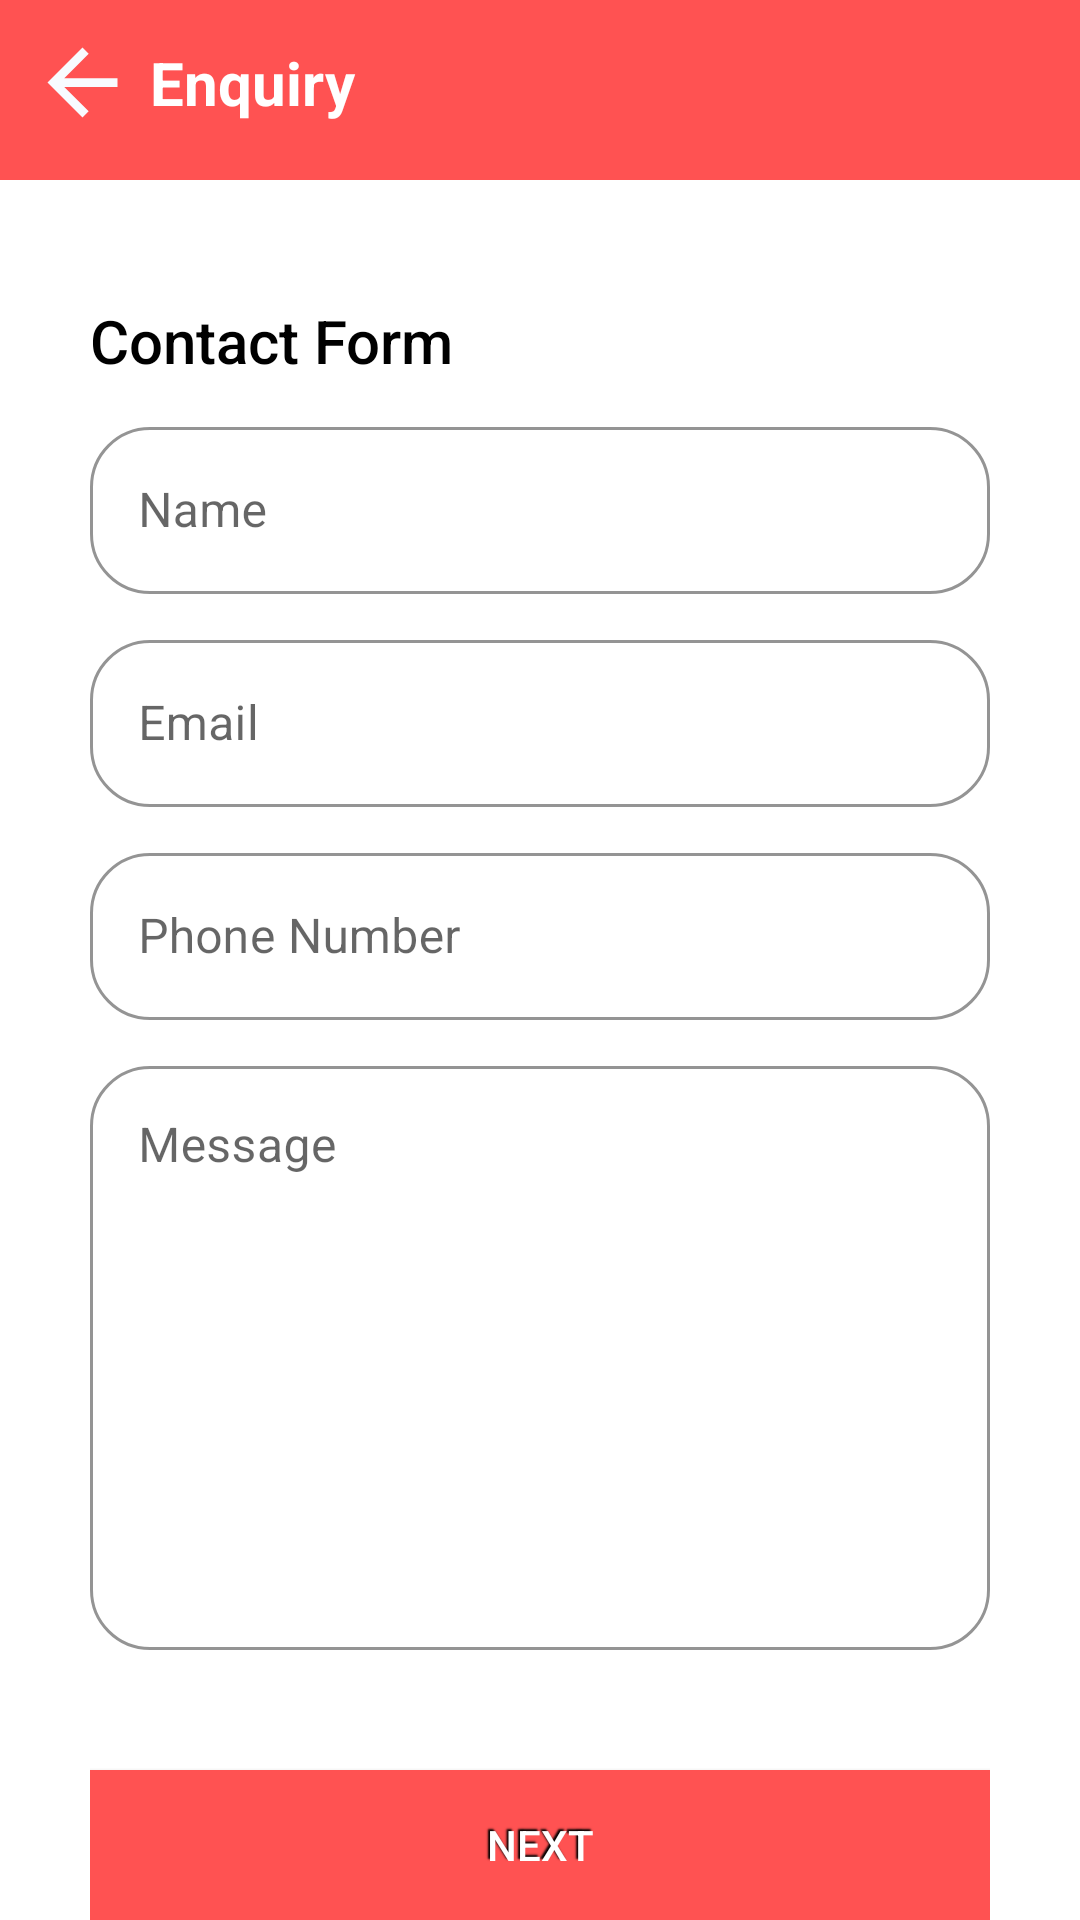

Where to tap for icons on this 1080 x 1920 app screen, as (x,y):
arrow back: (82,82)
